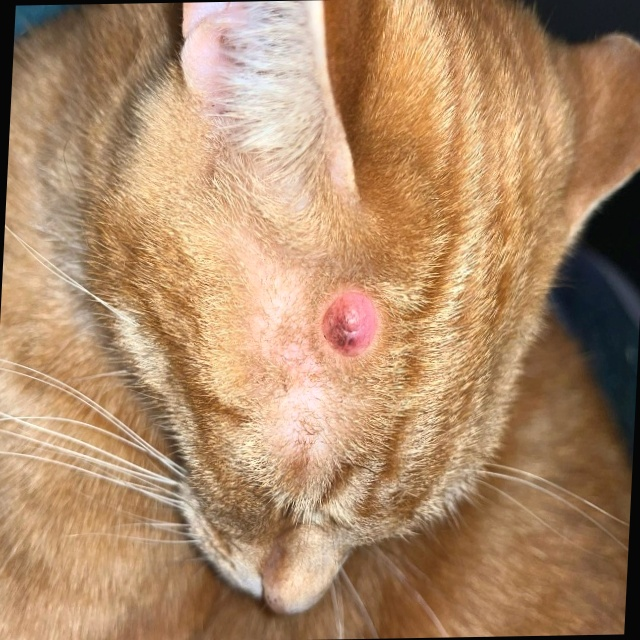lump_and_bump: (319, 285, 382, 359)
